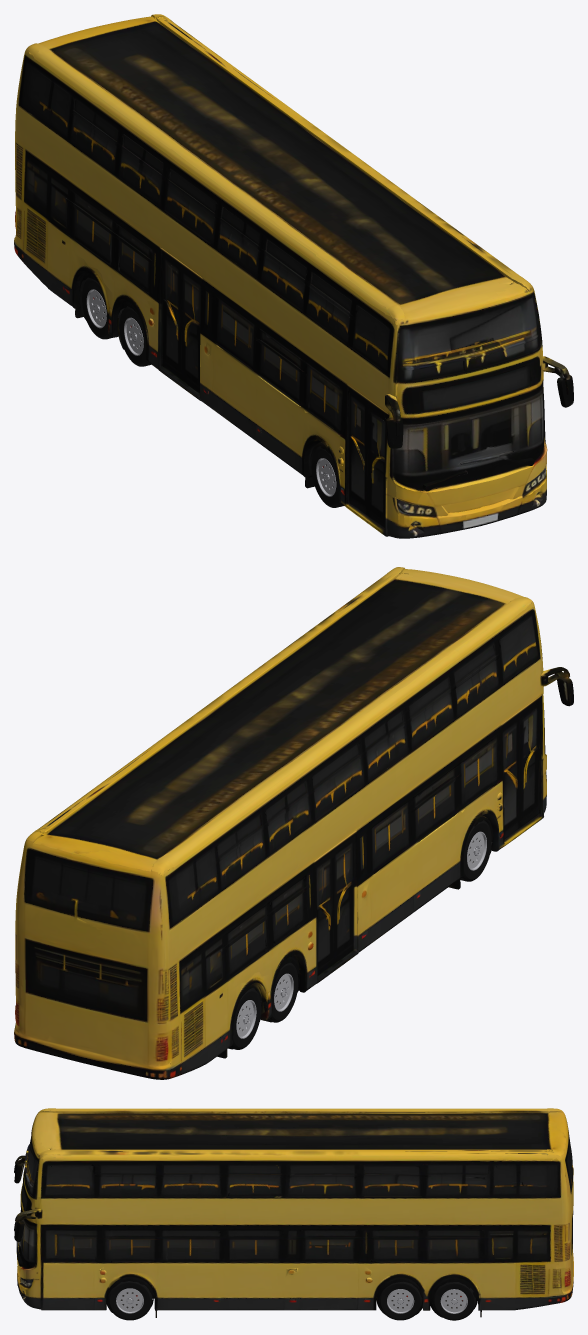
File: bus.glb
3 renders of one model, top to bottom at view 1: azimuth 30°, elevation 25°; view 2: azimuth 150°, elevation 25°; view 3: azimuth 270°, elevation 25°, orthographic. The views are drawn at different scales.
Parts seen in each view (by area): view 1: karosserie, rad_vr, rad_hr, rad_hr2; view 2: karosserie, rad_vr, rad_hr2, rad_hr; view 3: karosserie, rad_vl, rad_hl2, rad_hl.
Boxes of the visible parts, x1,y1,x2,y2 form: karosserie: (14, 14, 573, 538); rad_vr: (311, 446, 343, 507); rad_hr: (119, 306, 151, 366); rad_hr2: (82, 278, 124, 339); karosserie: (14, 567, 573, 1079); rad_vr: (460, 820, 491, 881); rad_hr2: (232, 988, 261, 1049); rad_hr: (255, 962, 298, 1022); karosserie: (14, 1108, 573, 1317); rad_vl: (107, 1281, 152, 1320); rad_hl2: (432, 1282, 475, 1320); rad_hl: (378, 1281, 422, 1320).
Size of the model in its own units: 3.7 by 4.48 by 13.73.
Materials: 3 (1 with a texture image).
